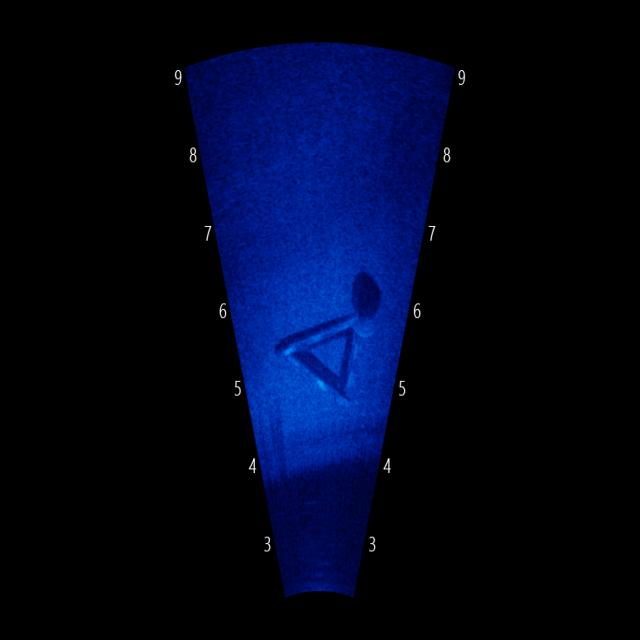triangle: (274, 294, 374, 411)
